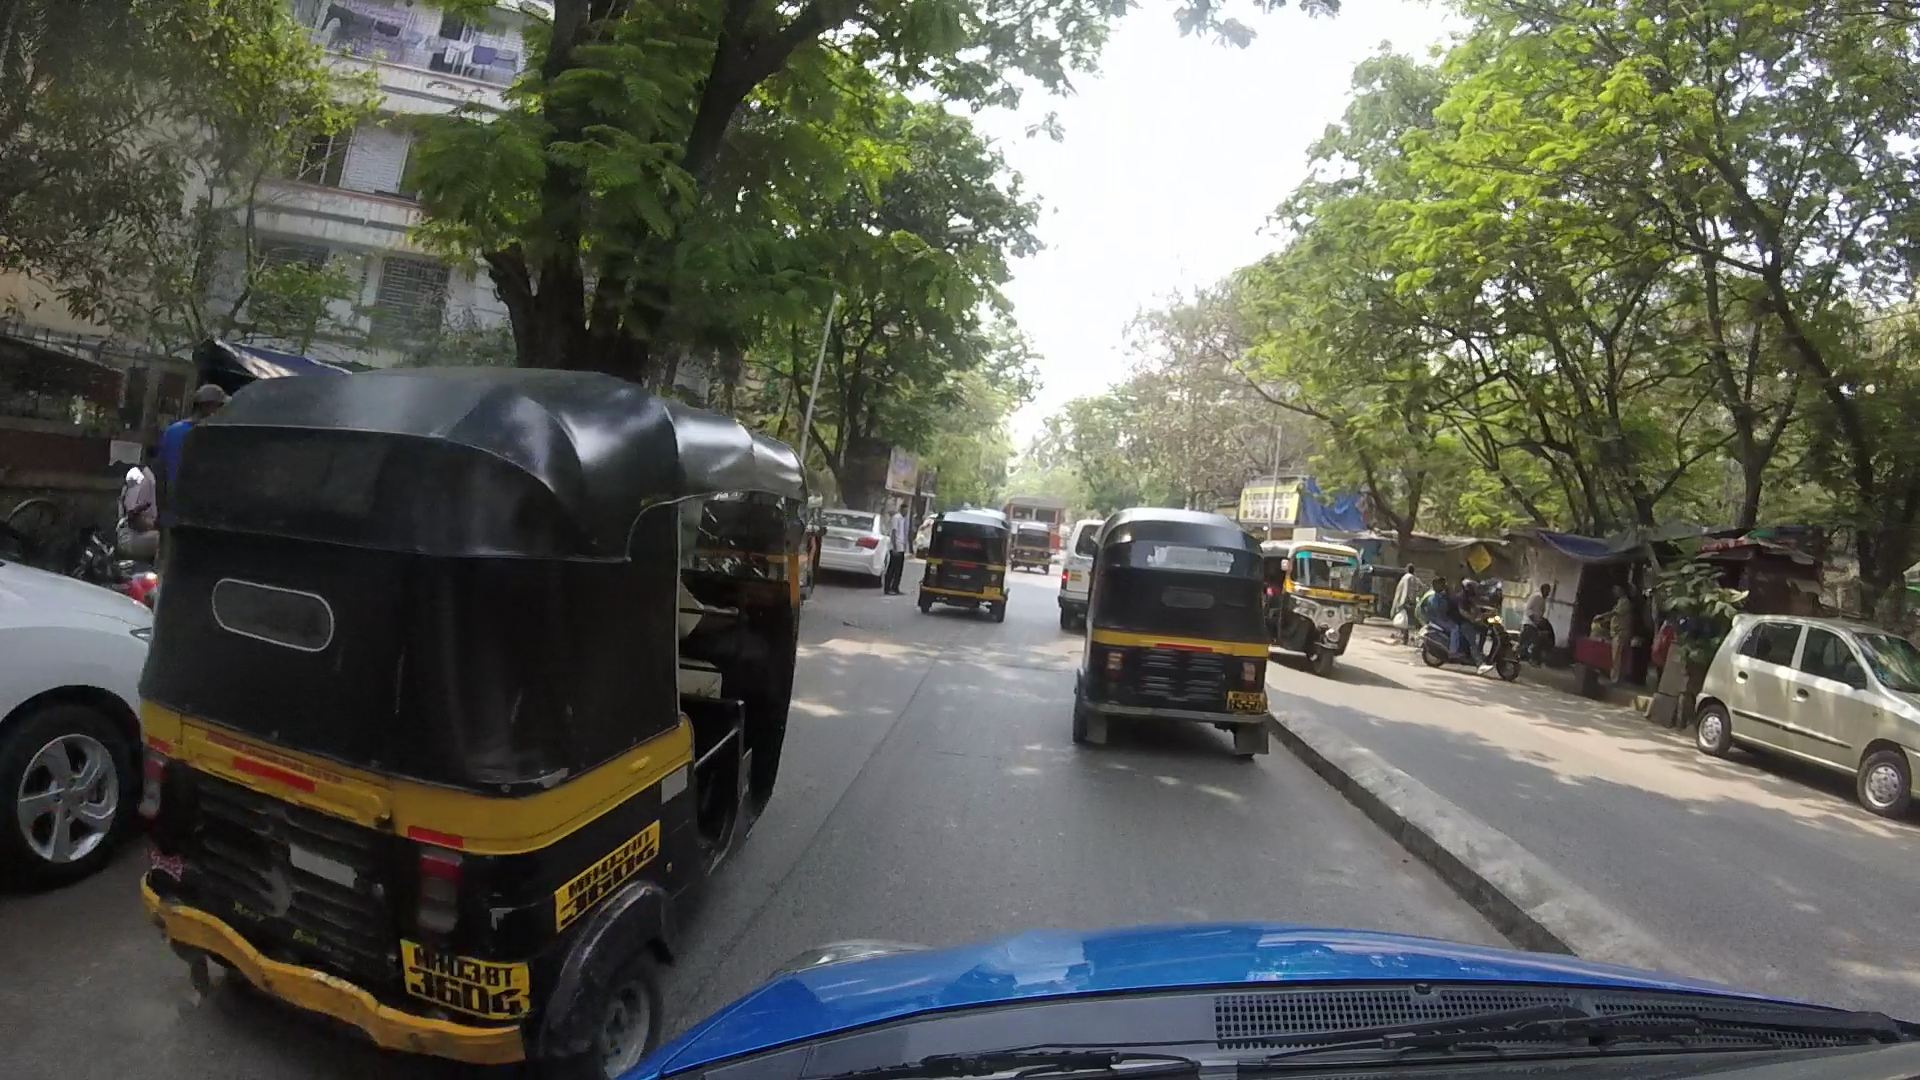car: (8, 554, 158, 886), (1687, 607, 1911, 814), (814, 504, 895, 592)
rickshaw: (128, 368, 831, 1079), (1072, 501, 1294, 769), (1261, 539, 1369, 676), (909, 504, 1015, 624)
